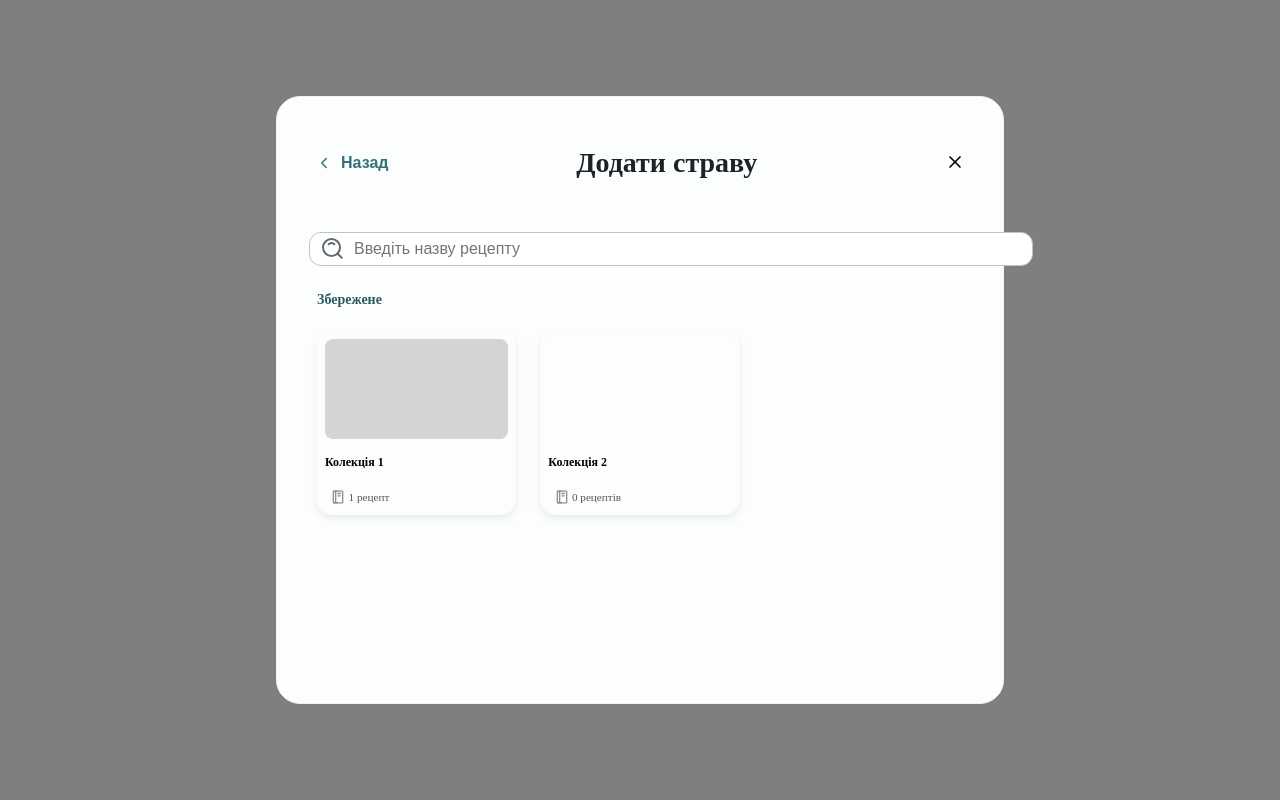
Test: SelectRecipeModal › клик по коллекции открывает CollectionModal
The width and height of the screenshot is (1280, 800).
What coordinates should you click on to do the following:
click the heading "Колекція 2"
I would click on:
 (578, 462)
Its box is [548, 455, 607, 469].
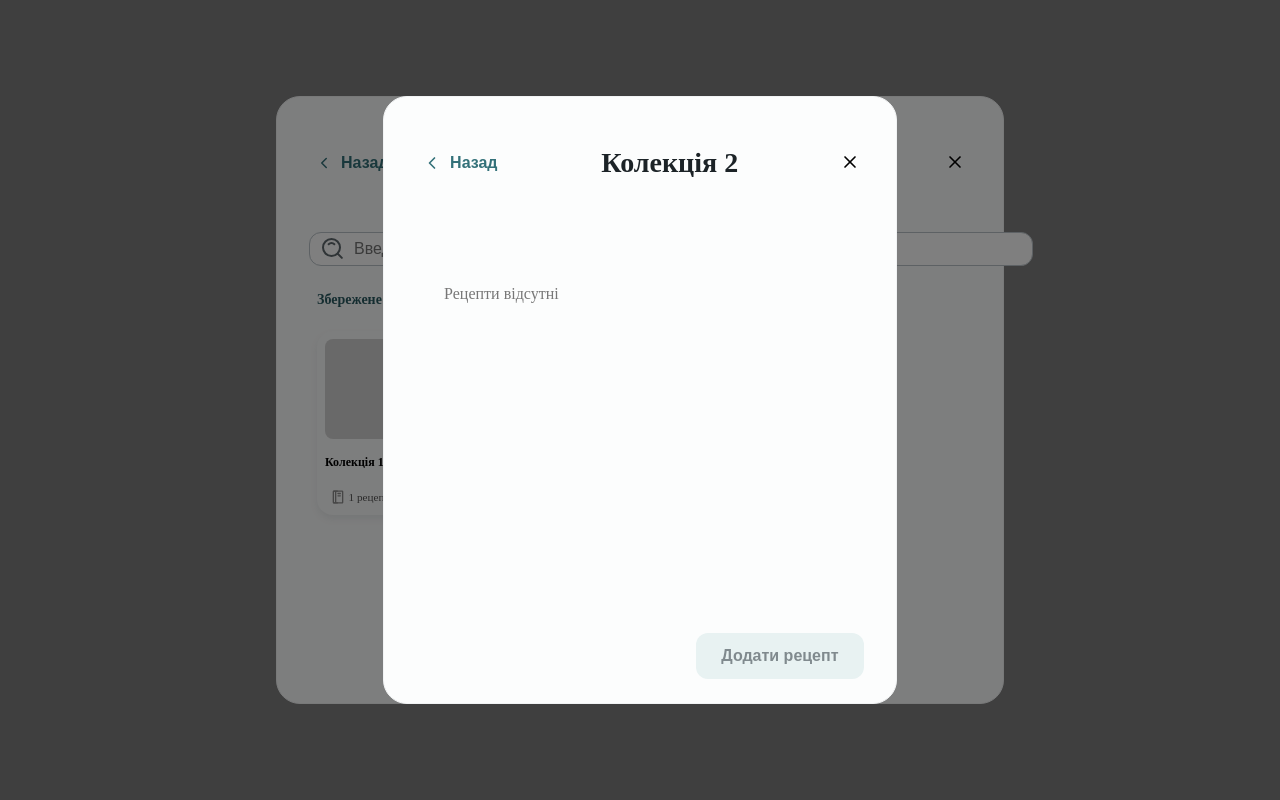
Check: the text "Рецепти відсутні" is shown, box [444, 286, 559, 302]
